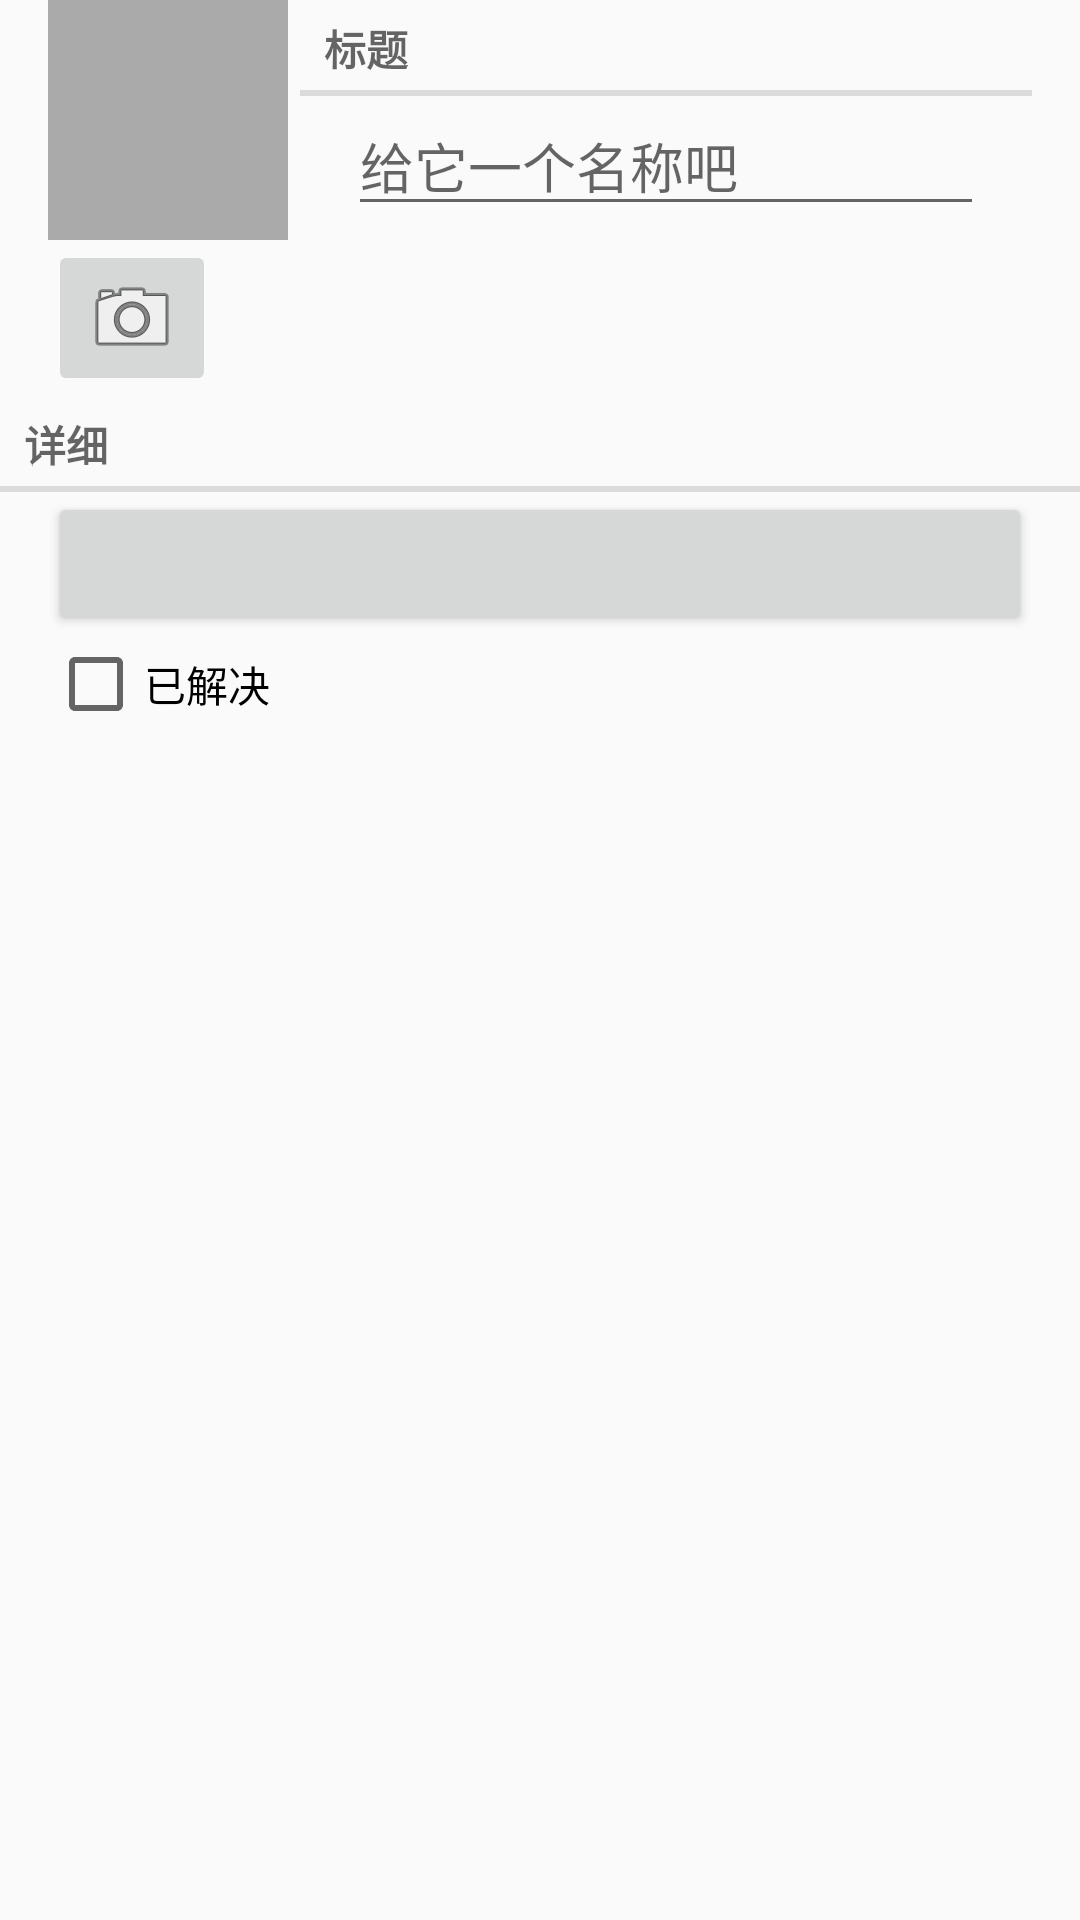

Locate icon controls on the screen. Image size 1080px×1920px, boxes as (x1, y1, x2, y2).
camera: (60, 258, 204, 378)
